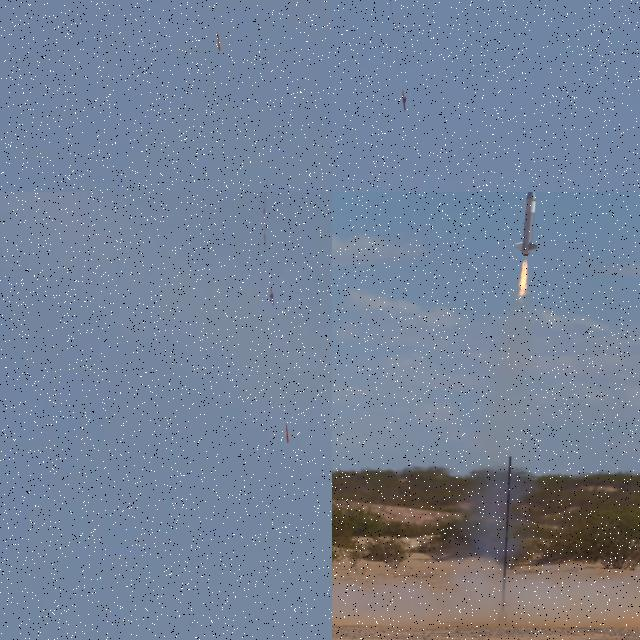Rocket: (513, 192, 540, 256), (285, 423, 290, 443), (217, 33, 221, 51)
